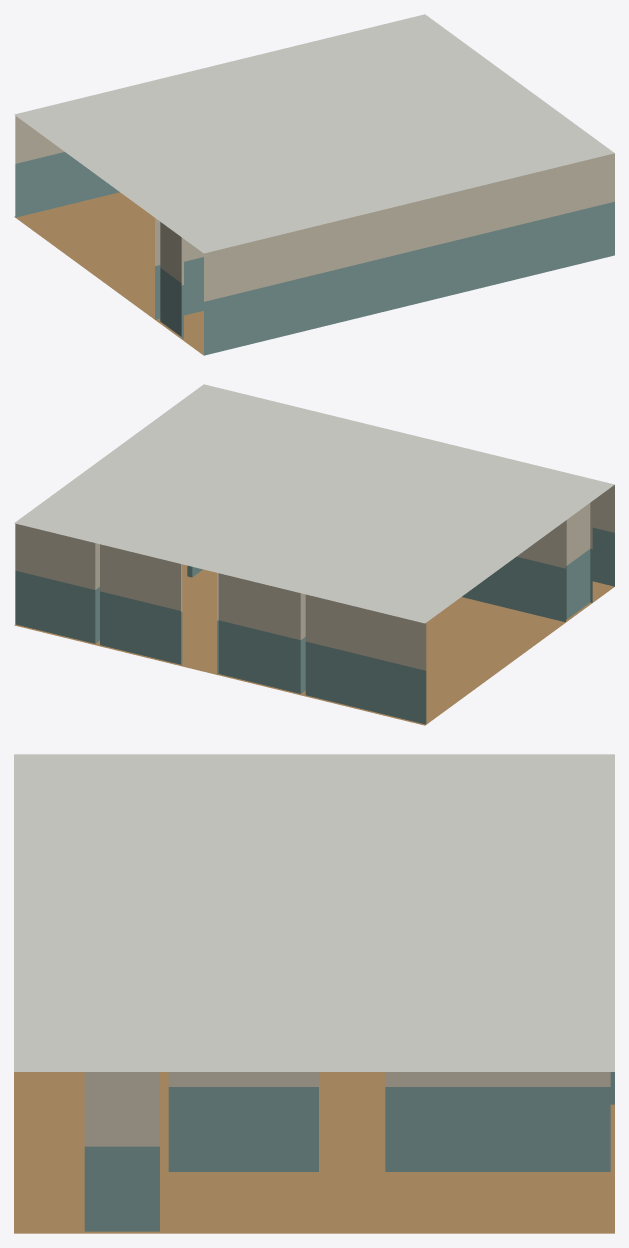
The model's file is chunk_3_4.glb.
The picture shows the model from 3 angles, top to bottom: view 1: azimuth 30°, elevation 25°; view 2: azimuth 150°, elevation 25°; view 3: azimuth 270°, elevation 25°; orthographic projection. The views are drawn at different scales.
Parts seen in each view (by area): view 1: chunk_3_4; view 2: chunk_3_4; view 3: chunk_3_4.
Boxes of the visible parts, <box> form: chunk_3_4: <box>14,14,614,355</box>; chunk_3_4: <box>14,384,614,725</box>; chunk_3_4: <box>14,754,614,1233</box>.
Size of the model in its own units: 12 by 2.85 by 9.6.
